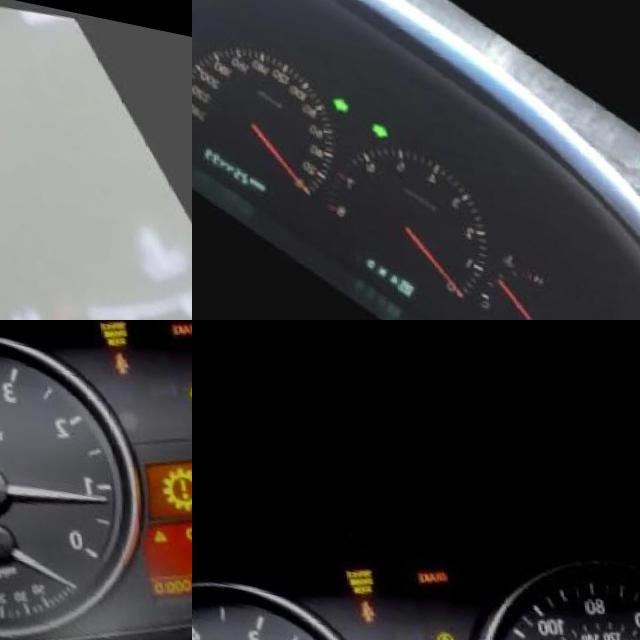High Engine Coolant Temperature: (498, 235, 519, 255)
